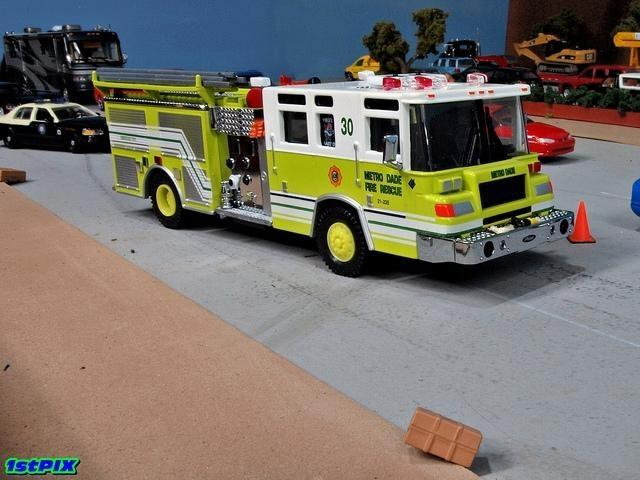car: (0, 99, 112, 154), (484, 106, 576, 158), (486, 66, 544, 89), (421, 57, 476, 77), (576, 74, 640, 90), (344, 55, 382, 81), (630, 178, 640, 218)
truck: (92, 64, 576, 278)
